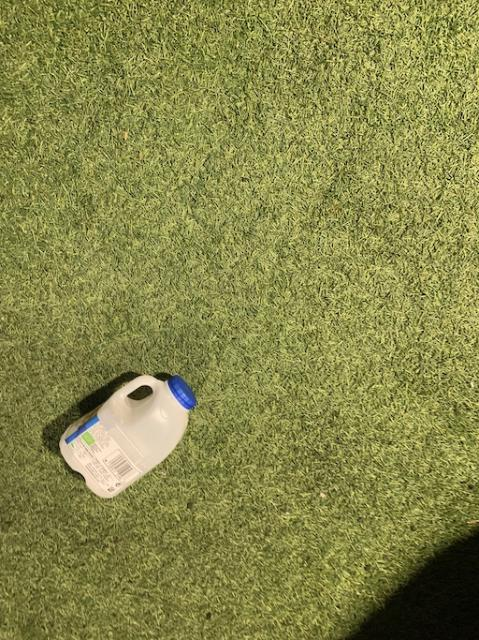plastic: (59, 375, 195, 496)
